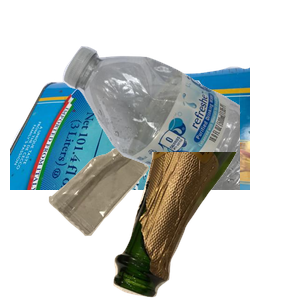glass: (111, 152, 300, 300)
metal: (10, 64, 250, 244)
plastic: (60, 44, 300, 224)
trash: (46, 144, 188, 300)
